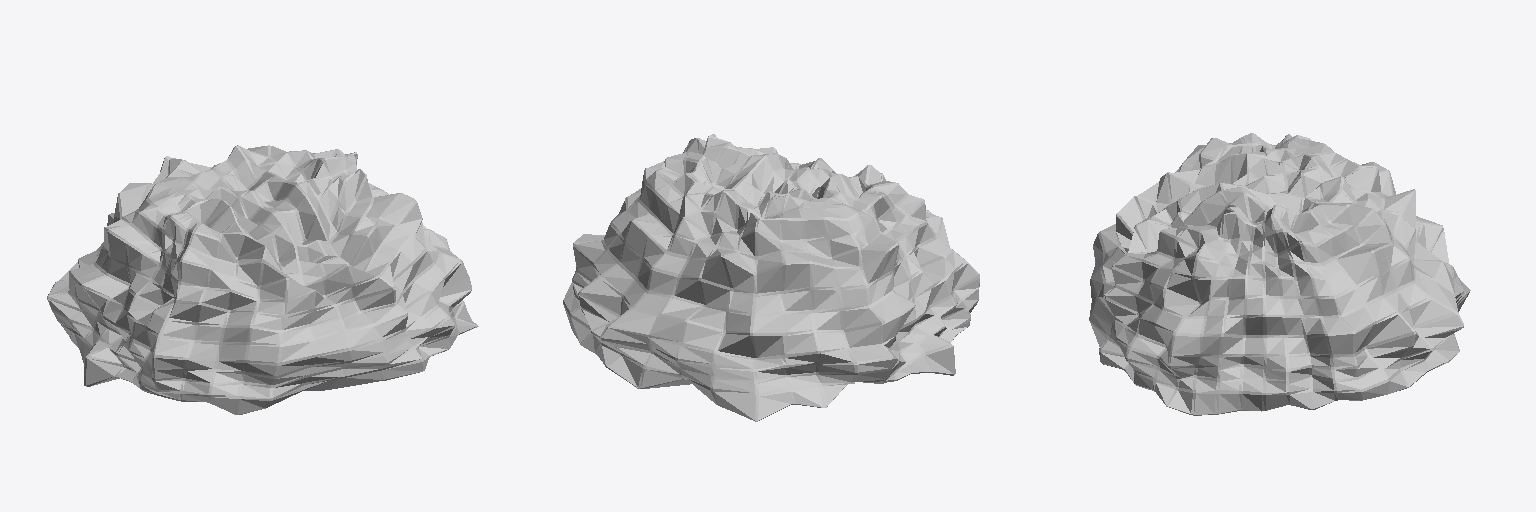
Rendered from deposit_base.obj.
3 views of the same model, side by side, from view 1: azimuth 30°, elevation 25°; view 2: azimuth 150°, elevation 25°; view 3: azimuth 270°, elevation 25° (orthographic).
Visible parts, largest first — view 1: Cube; view 2: Cube; view 3: Cube.
Part boxes in pixels (bbox=[...]): Cube: bbox=[47, 145, 478, 414]; Cube: bbox=[563, 134, 979, 421]; Cube: bbox=[1089, 133, 1470, 415].
Size of the model in its own units: 3.34 by 1.52 by 3.08.